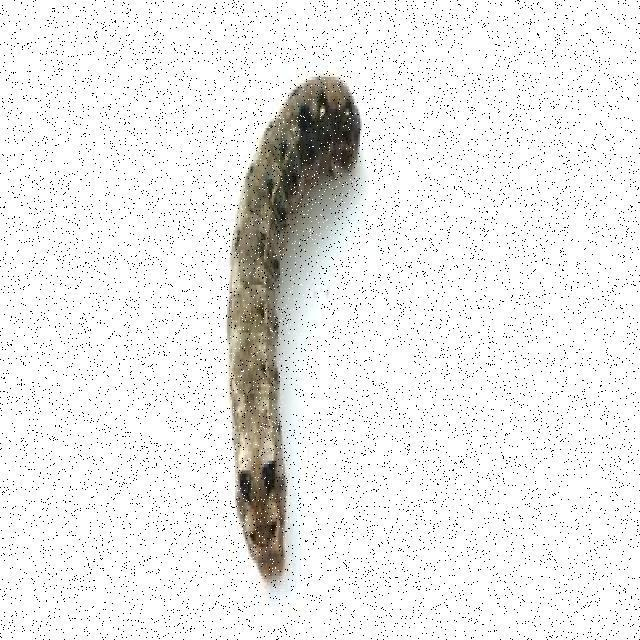army worm: (209, 62, 380, 587)
